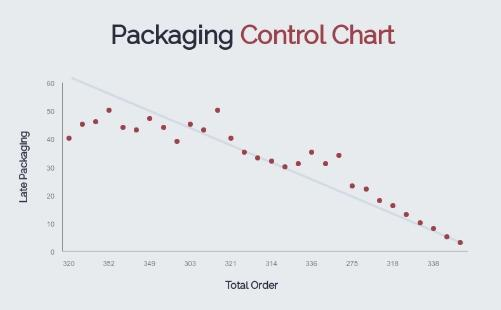axis: (60, 248, 470, 254), (59, 78, 67, 256)
point: (211, 104, 224, 117), (441, 230, 455, 242), (415, 218, 428, 230), (454, 235, 466, 248), (224, 133, 238, 144), (63, 133, 75, 145), (184, 118, 196, 130), (361, 182, 373, 194), (333, 149, 346, 160), (117, 123, 129, 134), (131, 124, 143, 135), (144, 112, 155, 124), (171, 136, 183, 147), (387, 199, 399, 210), (400, 210, 412, 221), (197, 125, 210, 135), (253, 152, 264, 163), (306, 146, 317, 157), (374, 195, 385, 206), (239, 147, 251, 157), (428, 223, 440, 233), (346, 182, 359, 191), (104, 106, 115, 116), (266, 156, 277, 166), (280, 161, 290, 172), (89, 117, 101, 126), (159, 122, 168, 134), (321, 158, 331, 168), (77, 120, 88, 129), (294, 159, 303, 168)
